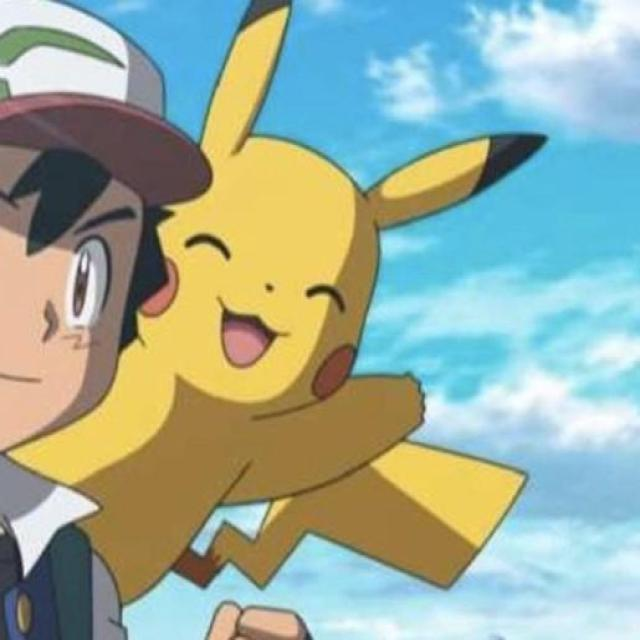pikachu: (8, 0, 550, 604)
